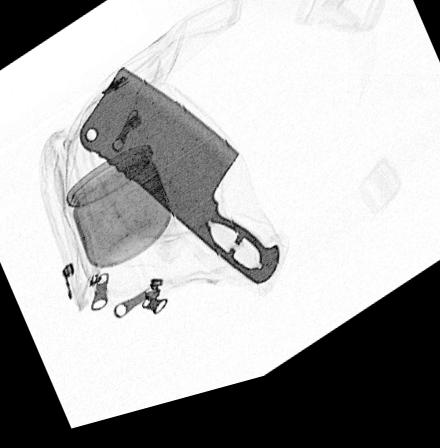Knife: (77, 72, 279, 300)
